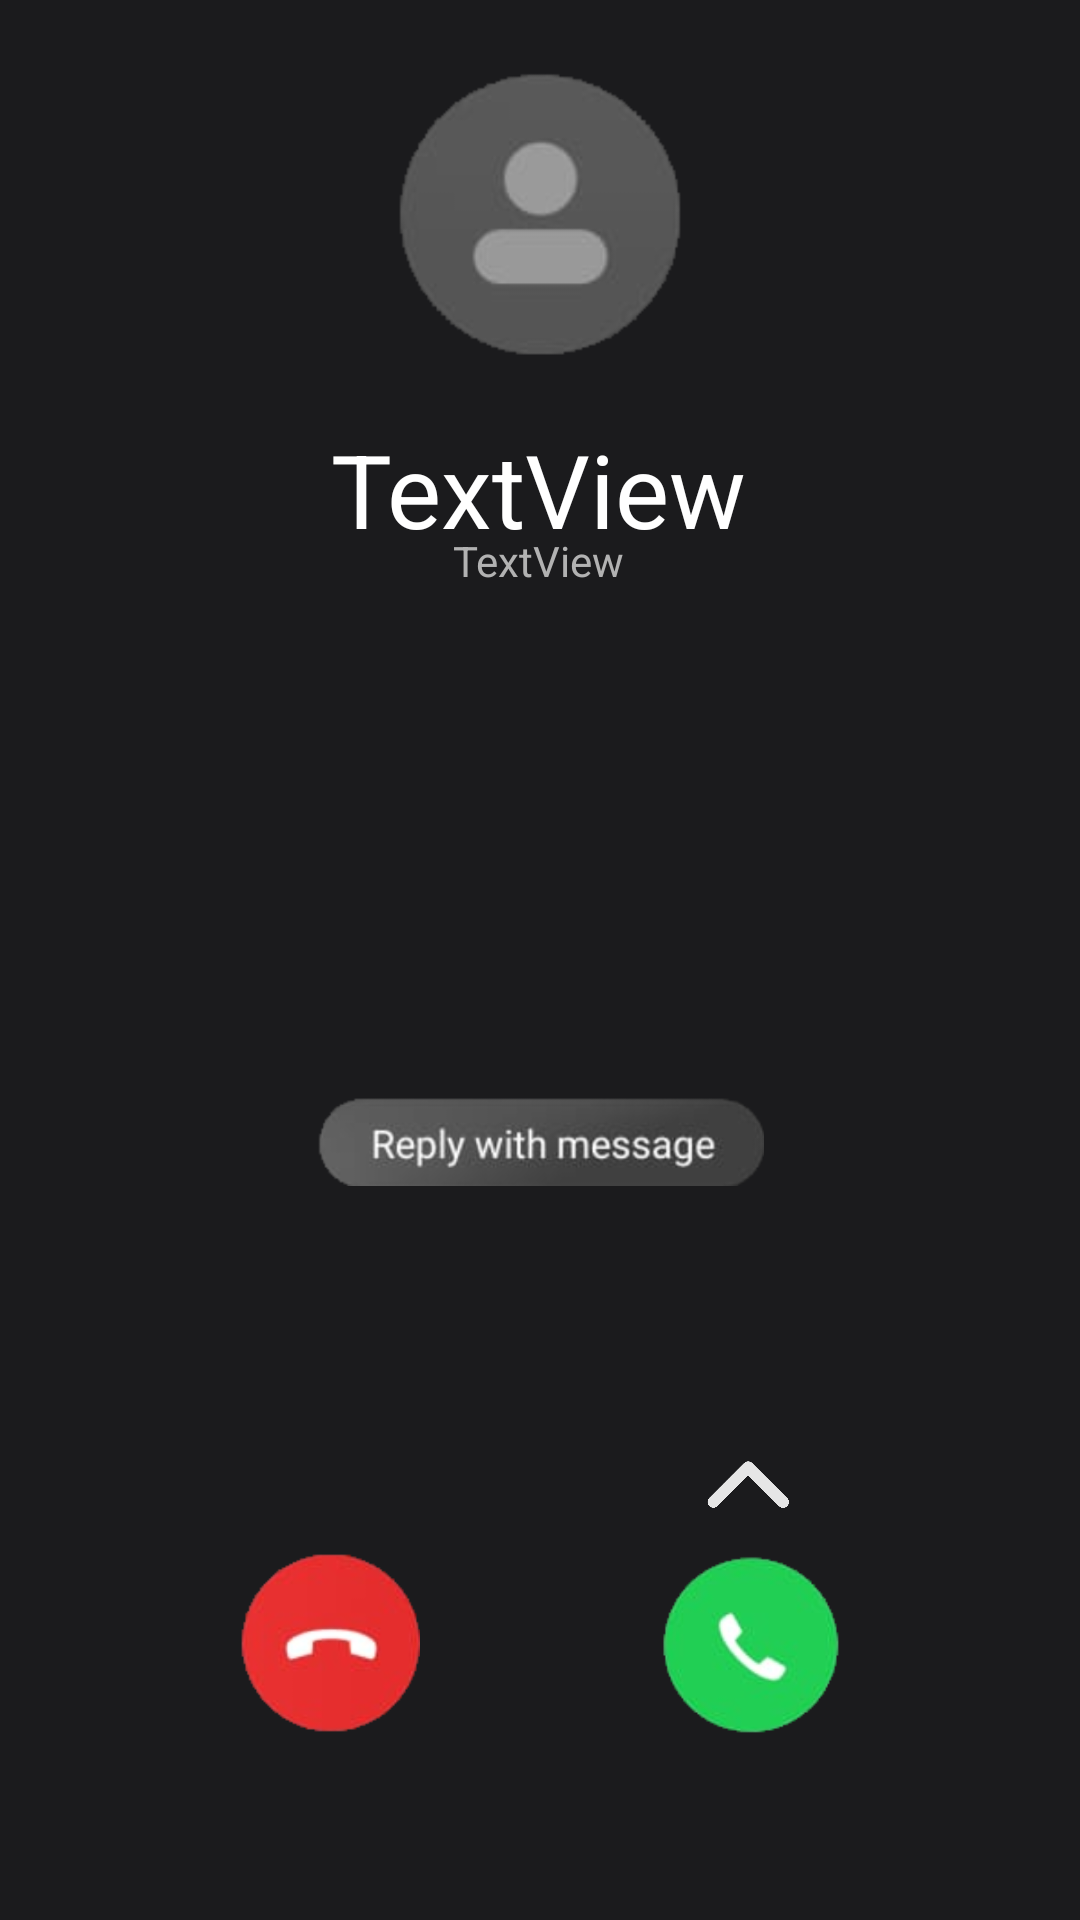

Icons on this 1080x1920 Android screen, each with the point to tap as (x,y):
up arrow: (748,1484)
